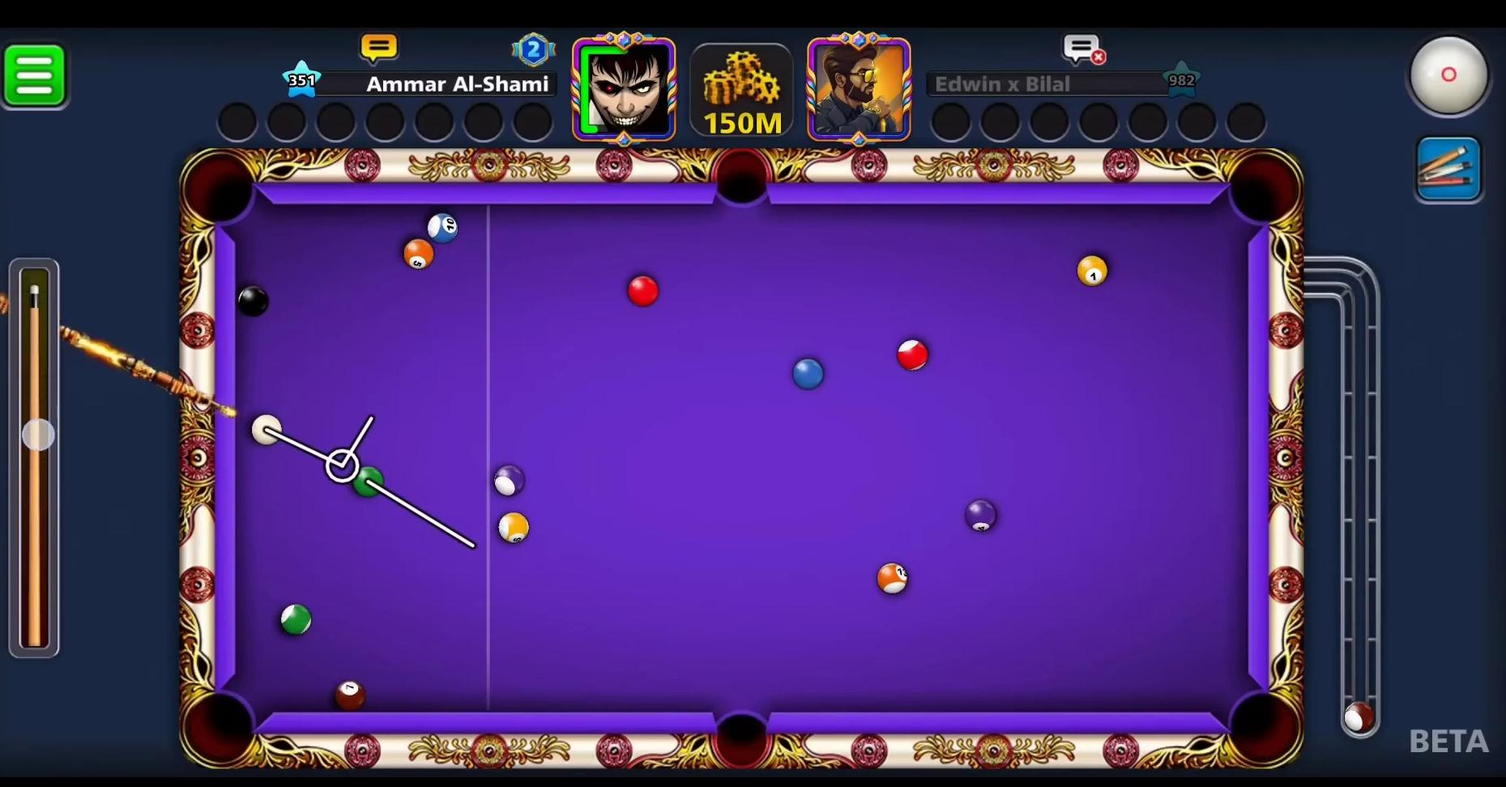Ball: (420, 207, 468, 256), (483, 457, 534, 501), (488, 506, 537, 551), (871, 551, 912, 602), (959, 493, 1002, 538), (618, 271, 665, 311), (324, 675, 373, 713), (228, 282, 275, 321), (892, 334, 935, 376), (272, 599, 318, 637), (787, 352, 828, 394), (1072, 252, 1116, 291), (399, 235, 440, 274), (349, 466, 388, 501)
Force: (2, 261, 64, 658)
Guideline: (296, 415, 477, 549)
Hole: (173, 680, 269, 774), (1217, 138, 1306, 236), (176, 140, 268, 234), (1215, 683, 1308, 775), (702, 142, 783, 223), (702, 696, 783, 777)
Play_Area: (247, 202, 1246, 713)
Spin: (1402, 27, 1504, 129)
White: (244, 409, 285, 447)
